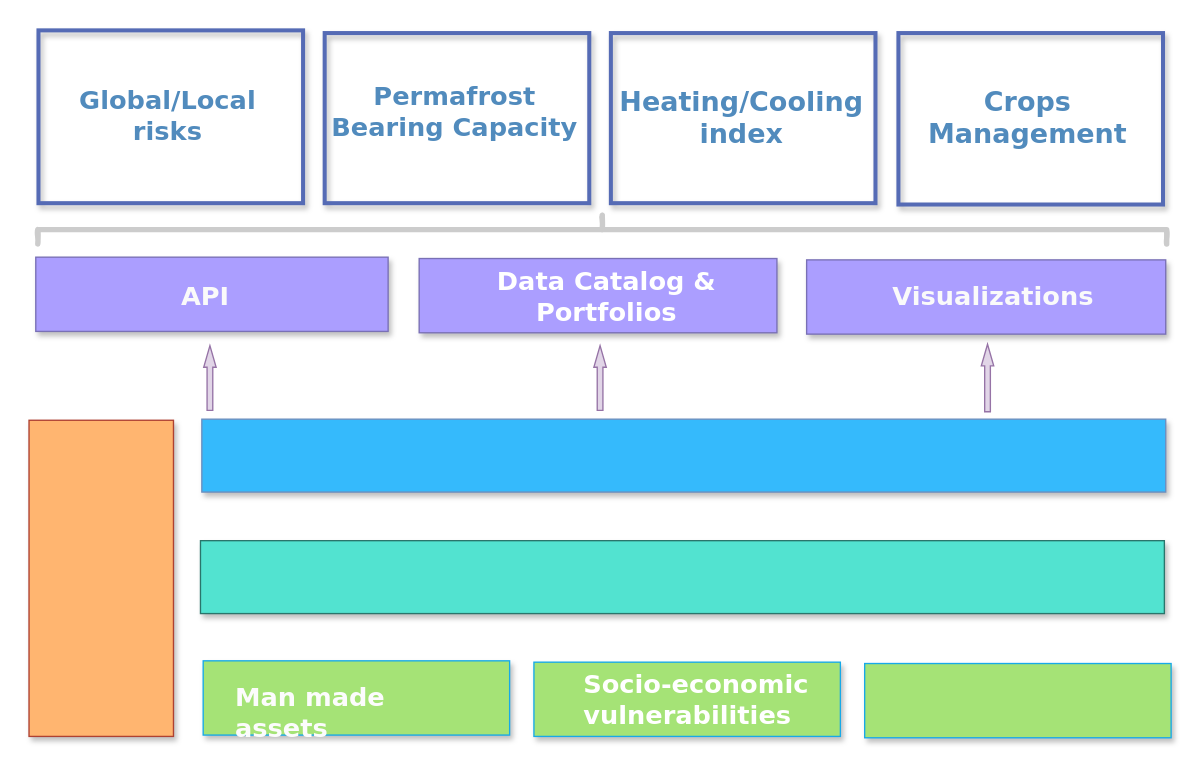
Some shapes in this 1203 by 771 pixel diagram are drawn without their labels. The centre of each missing label's shape, as x and y in pixels:
Climate risk from present to 2100: point 684,457
Earth data interactions: point 683,578
Machine Learning: point 102,580
